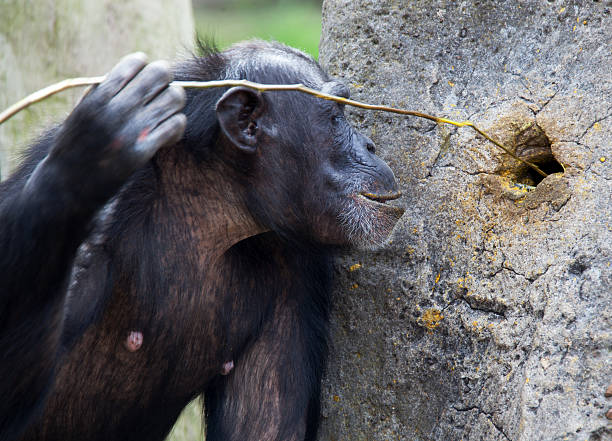chimpanzee: (171, 37, 434, 268)
